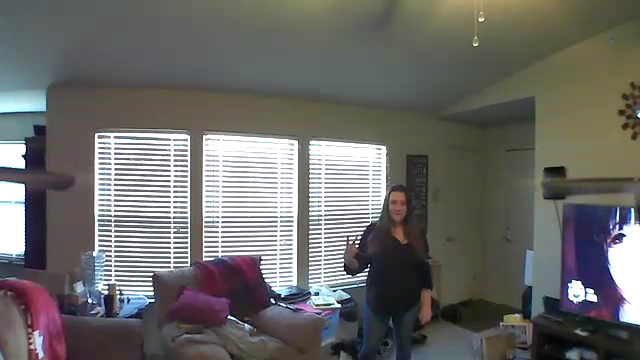peace: (339, 233, 367, 266)
